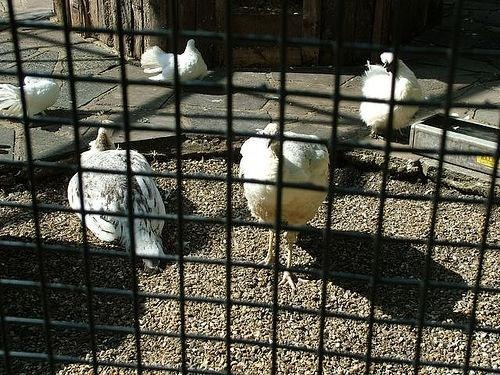bird: (58, 119, 177, 267), (235, 121, 333, 287), (364, 51, 426, 146), (1, 63, 67, 122), (139, 35, 209, 87)
